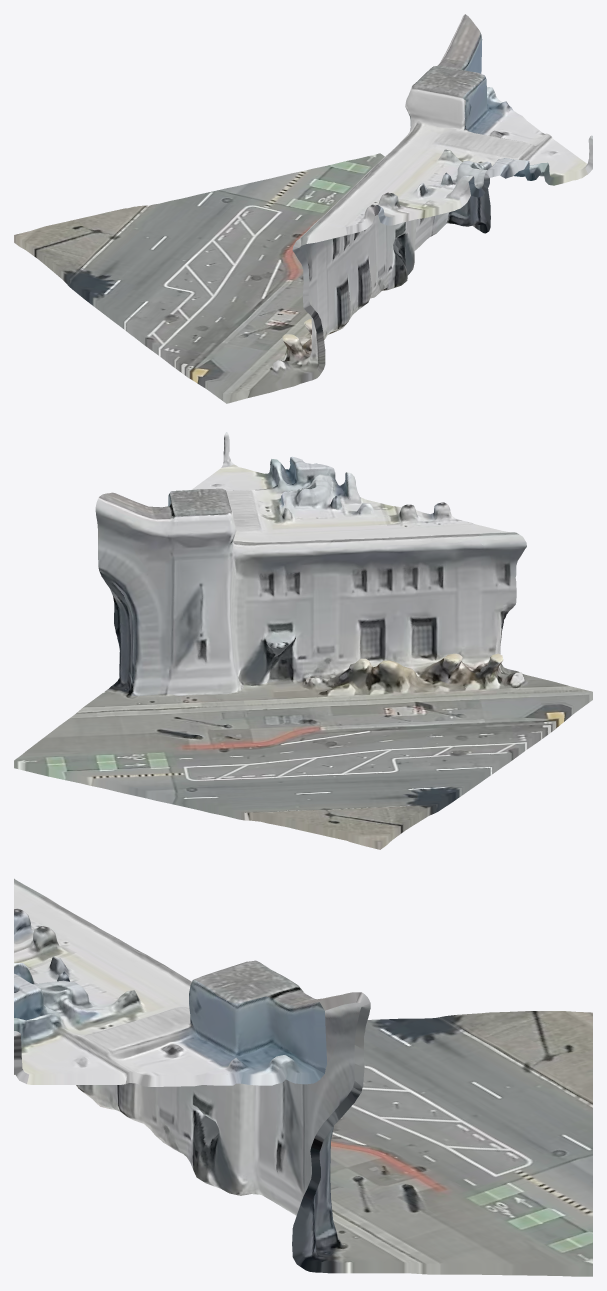
File: z20-167784-405213-h0-yup-uvflip-v3-world.glb
3 renders of one model, top to bottom at view 1: azimuth 30°, elevation 25°; view 2: azimuth 150°, elevation 25°; view 3: azimuth 270°, elevation 25°, orthographic. The views are drawn at different scales.
Size of the model in its own units: 30.16 by 16.44 by 30.32.
1 material, 1 textured.
